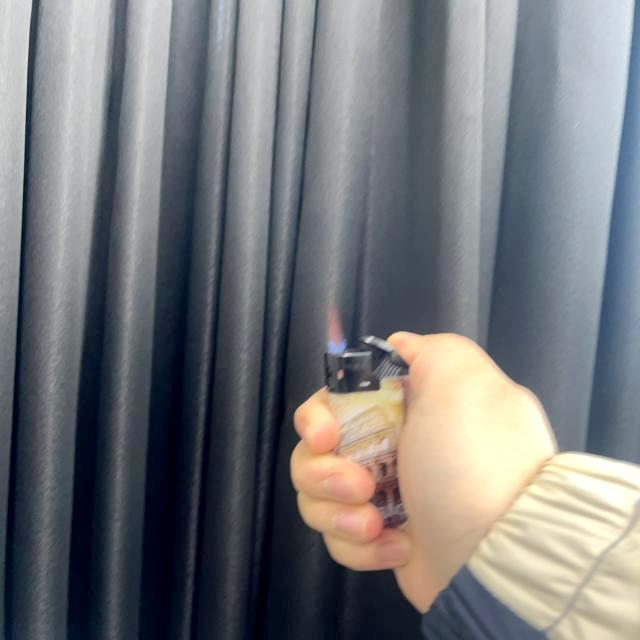fire: (324, 298, 348, 356)
